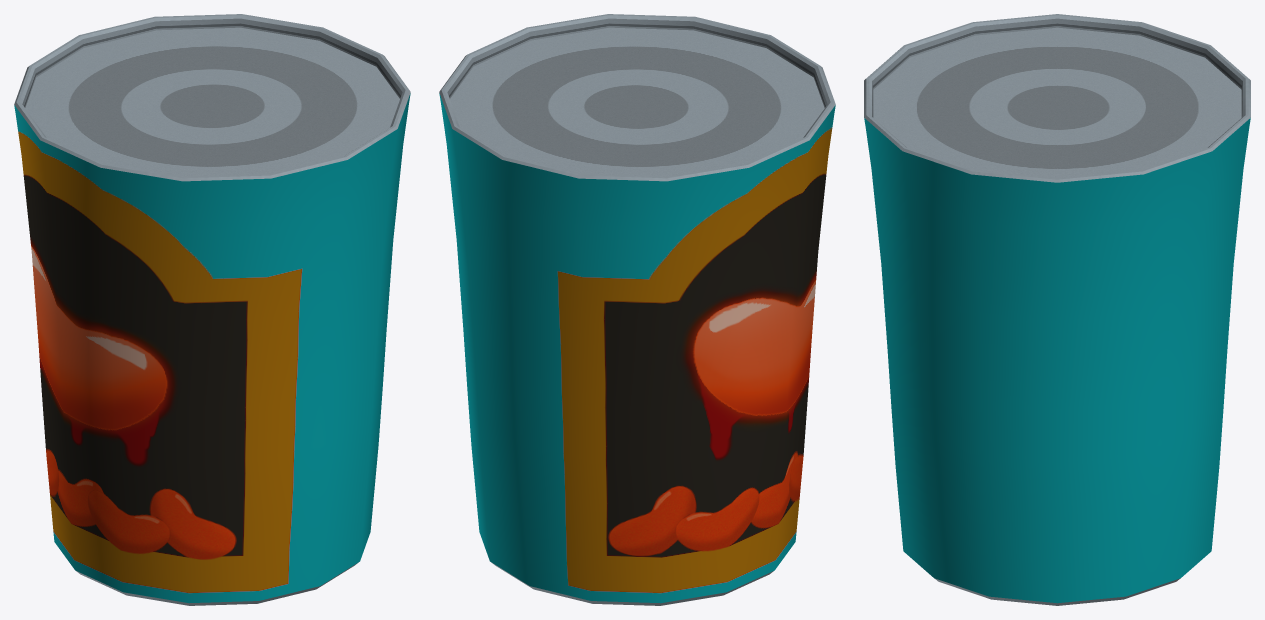
Rendered from BeanCanFunk (1).FBX.
3 renders of one model, left to right at view 1: azimuth 30°, elevation 25°; view 2: azimuth 150°, elevation 25°; view 3: azimuth 270°, elevation 25°, orthographic.
Visible parts, largest first — view 1: Cylinder001; view 2: Cylinder001; view 3: Cylinder001.
Boxes of the visible parts, bbox=[...] form: Cylinder001: bbox=[14, 14, 410, 605]; Cylinder001: bbox=[439, 14, 835, 605]; Cylinder001: bbox=[864, 14, 1250, 605].
Bounding box in the file's own units: 13.32 × 16.49 × 12.99.
